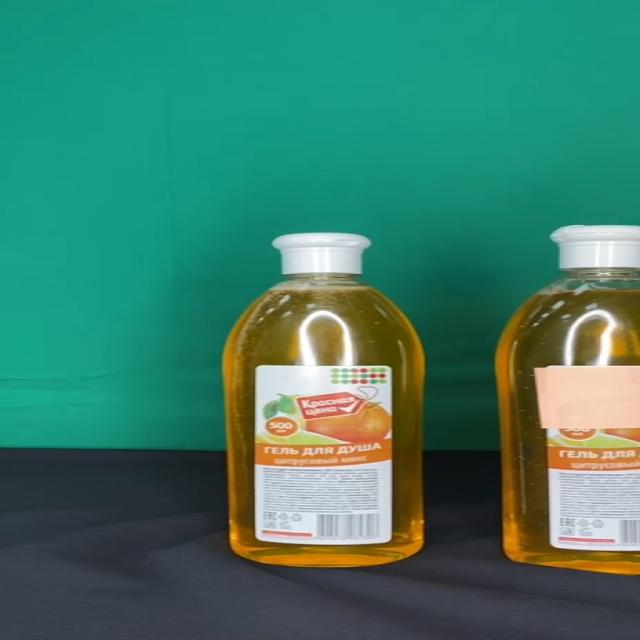Bottle: (222, 233, 426, 566)
Cap: (271, 234, 372, 275)
